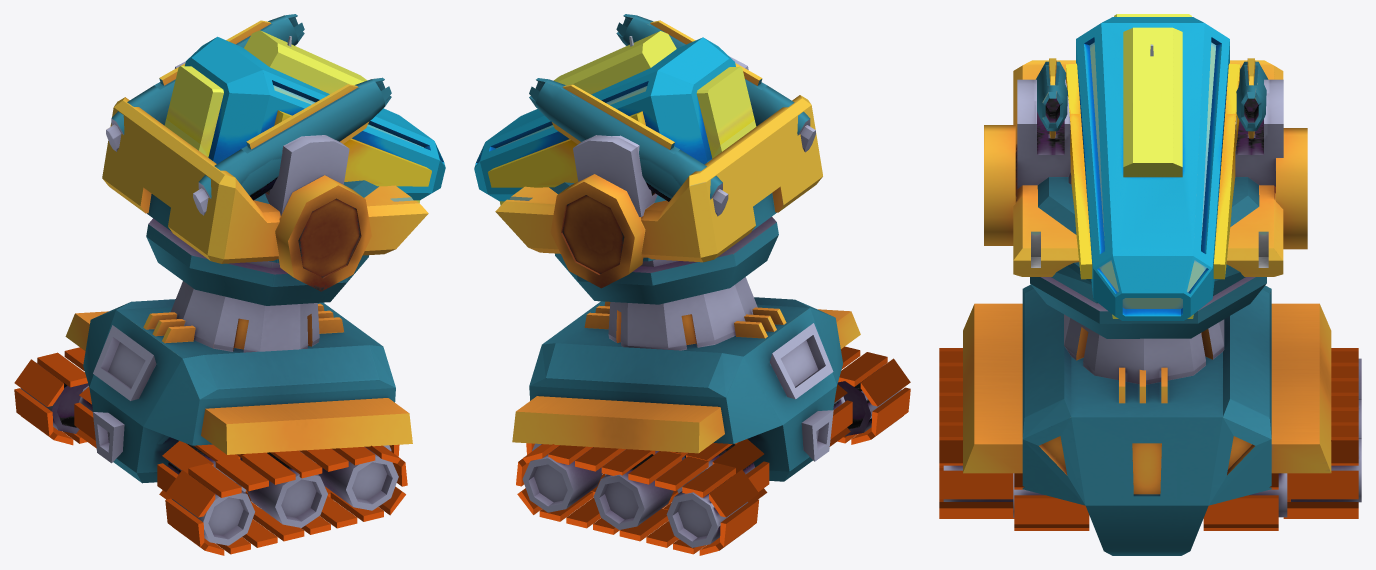
The model's file is Player_move_2_Upgrade0.obj.
3 renders of one model, left to right at view 1: azimuth 30°, elevation 25°; view 2: azimuth 150°, elevation 25°; view 3: azimuth 270°, elevation 25°, orthographic. The views are drawn at different scales.
Parts seen in each view (by area): view 1: Object015, Box020, Object014, Box018, Box019, Box017, Box016; view 2: Object015, Box019, Object014, Box018, Box020, Box016, Box017; view 3: Object015, Box019, Box020, Object014, Box017, Box016, Box018, Box009.
Boxes of the visible parts, x1,y1,x2,y2 form: Object015: (65,30,445,483); Box020: (165,445,407,555); Object014: (106,14,391,215); Box018: (20,363,398,545); Box019: (14,347,87,445); Box017: (157,441,399,510); Box016: (74,387,96,448); Object015: (474,31,860,481); Box019: (516,444,758,555); Object014: (529,14,815,216); Box018: (522,365,901,547); Box020: (837,346,910,444); Box016: (526,439,769,509); Box017: (829,384,852,446); Object015: (963,14,1331,555); Box019: (1283,348,1358,518); Box020: (939,348,1014,518); Object014: (1036,58,1268,138); Box017: (1014,473,1089,530); Box016: (1203,473,1278,530); Box018: (943,358,1361,502); Box009: (1013,473,1287,517).
Bounding box in the file's own units: 70.38 × 88.9 × 68.55.
Materials: 6 (4 with a texture image).
